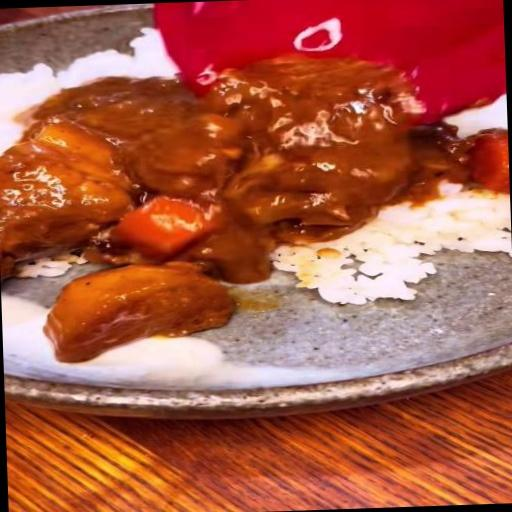pork caldereta: (0, 63, 511, 361)
